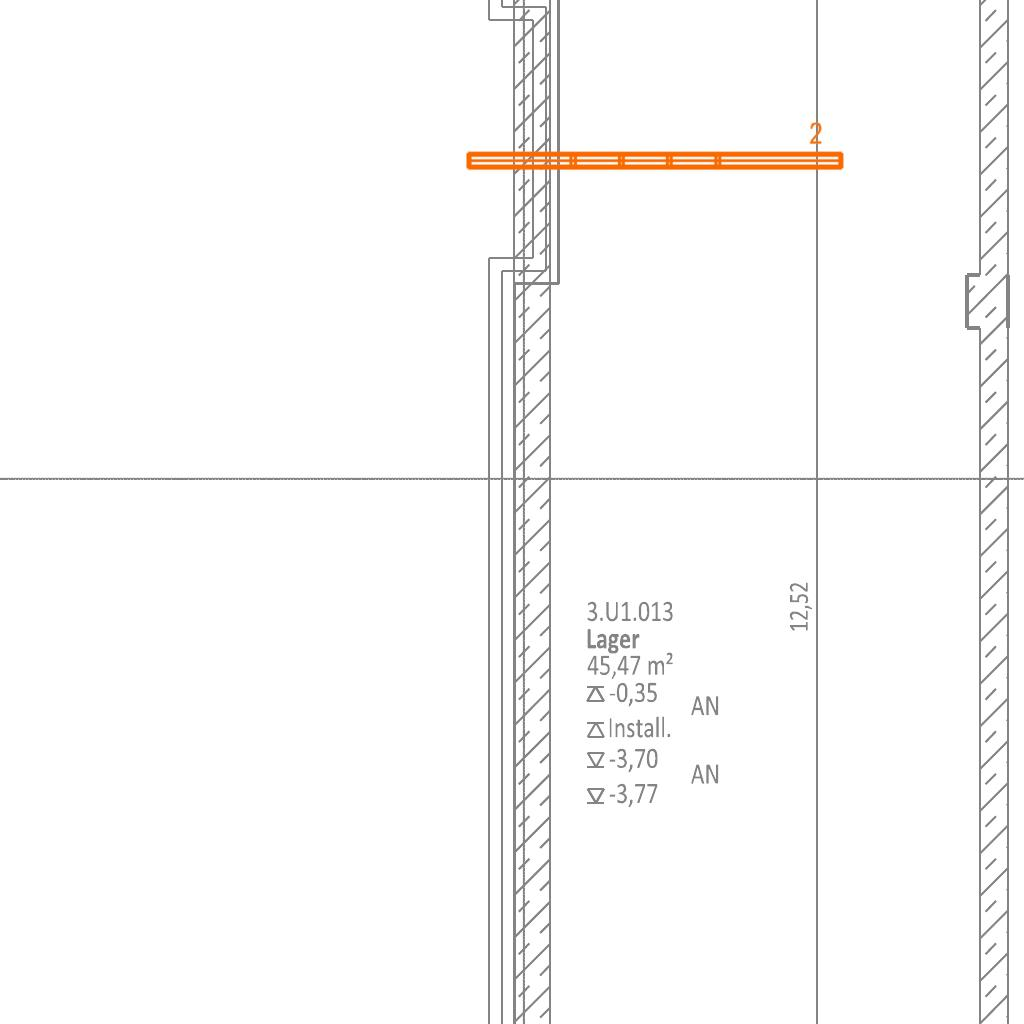Ambulanz_Pendelleuchte_LED: (461, 120, 848, 176)
